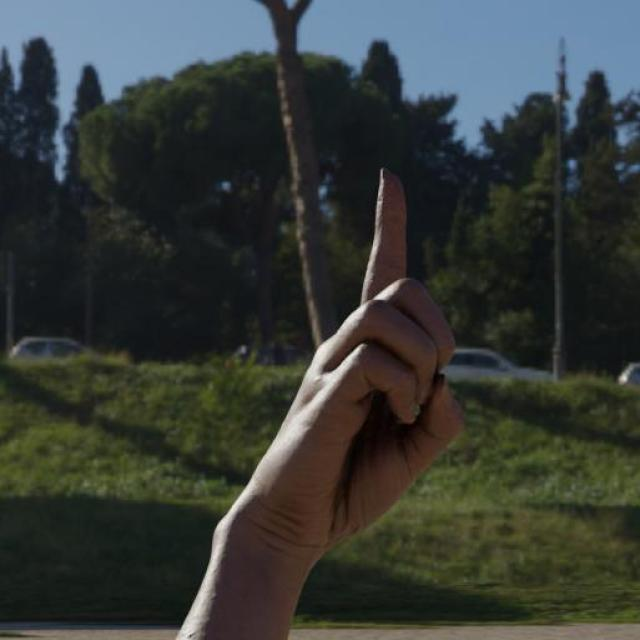D: (211, 164, 466, 577)
